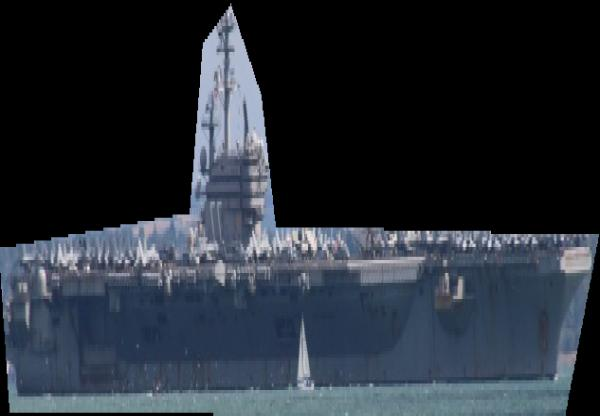Aircraft Carrier: (0, 3, 599, 416)
